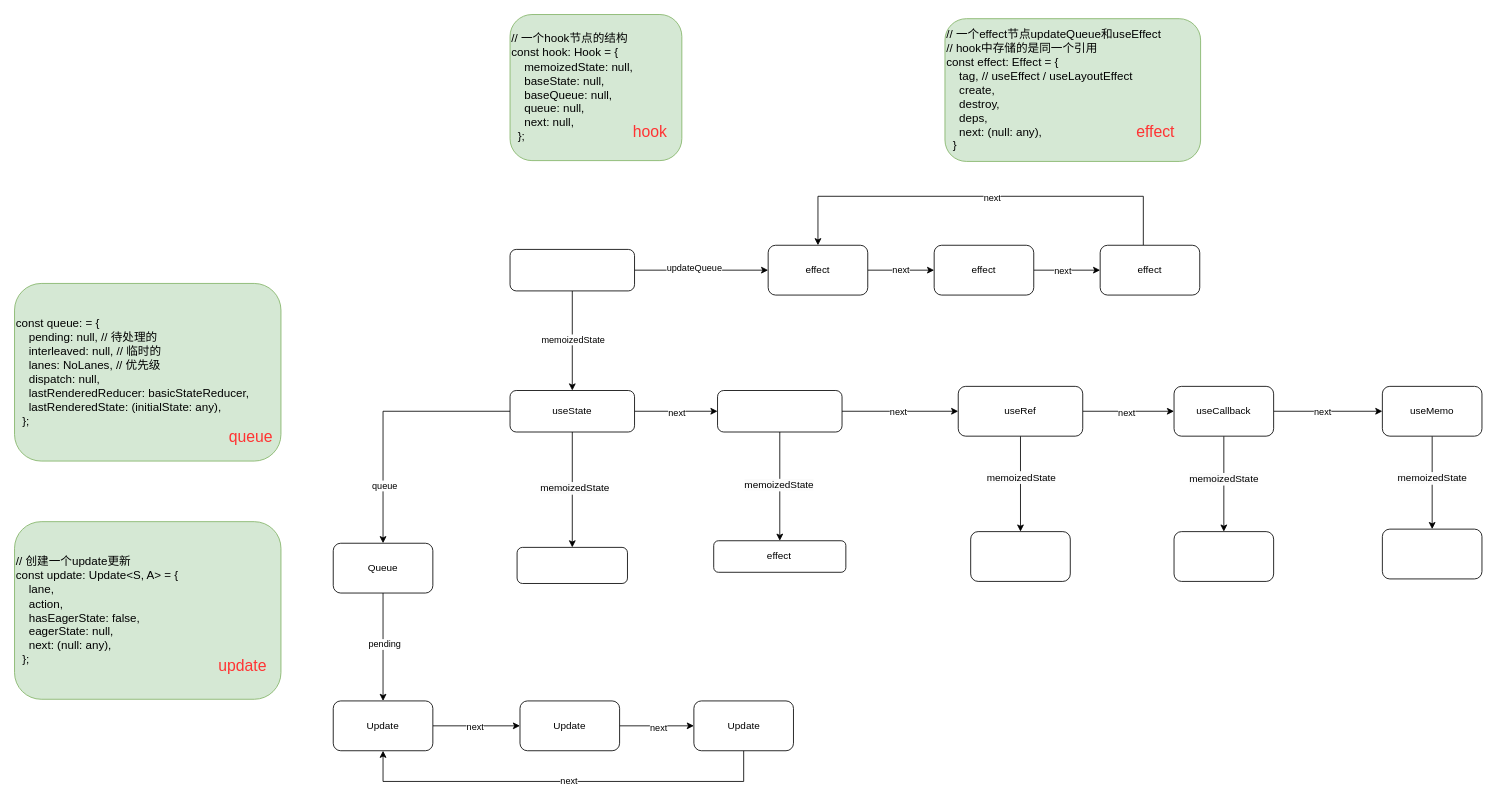
The diagram is 1496 pixels wide and 803 high, and some of its shapes have lost their labels. The shapes that lost their labels are listed below. From the top down, each one's box as (x1, y1, x2, y2) in pixels, then its label:
(509, 249, 635, 291): 函数fiber节点
(717, 390, 842, 432): useEffect
(516, 547, 627, 583): state
(970, 531, 1070, 581): {current: initialValue}
(1173, 531, 1274, 581): [callback, nextDeps]
(1382, 528, 1482, 579): [nextValue, nextDeps]
